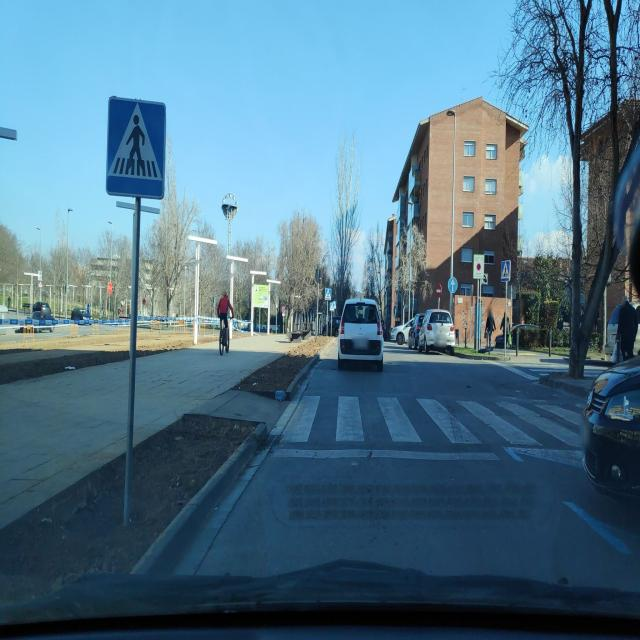forb_stopping: (281, 306, 285, 313)
